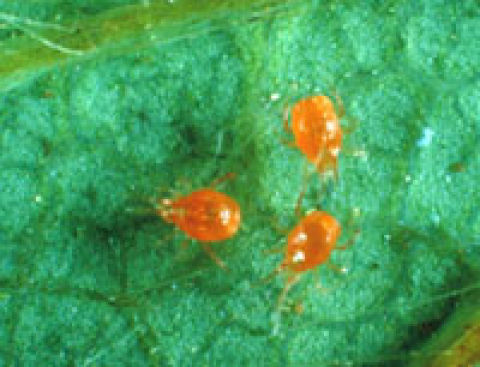Mites: (267, 80, 357, 186), (149, 170, 249, 264), (269, 194, 365, 287)
